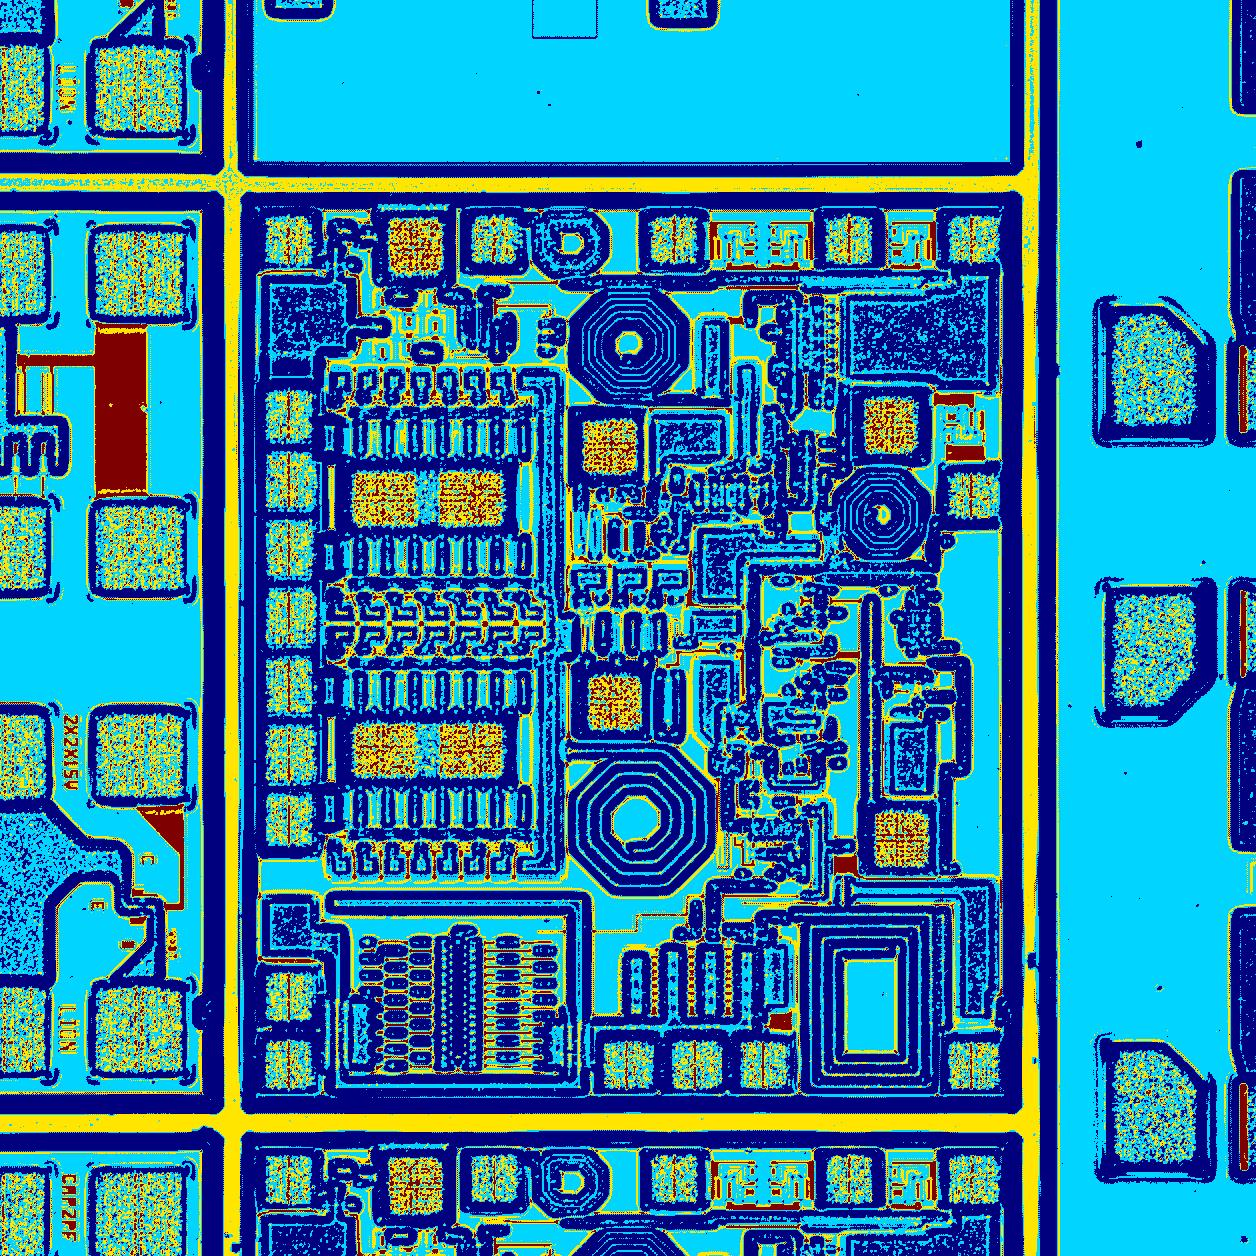Die: (240, 192, 1021, 1115)
Pad 1: (349, 468, 419, 528), (437, 468, 504, 526), (352, 722, 420, 779), (438, 723, 504, 779), (386, 216, 444, 277), (873, 810, 929, 867), (585, 673, 643, 729), (863, 396, 918, 453), (582, 419, 640, 474)
Pad 2: (266, 585, 317, 648), (266, 518, 316, 579), (266, 726, 317, 784), (266, 452, 317, 510), (266, 657, 314, 717), (266, 390, 314, 443), (949, 215, 1000, 263), (948, 472, 1000, 519), (267, 792, 312, 847), (650, 215, 699, 263), (673, 1040, 722, 1088), (604, 1041, 654, 1088), (949, 1042, 1000, 1089), (266, 216, 314, 265), (265, 1040, 312, 1088), (825, 215, 872, 263), (472, 214, 518, 263), (266, 973, 313, 1020), (741, 1042, 787, 1088)
